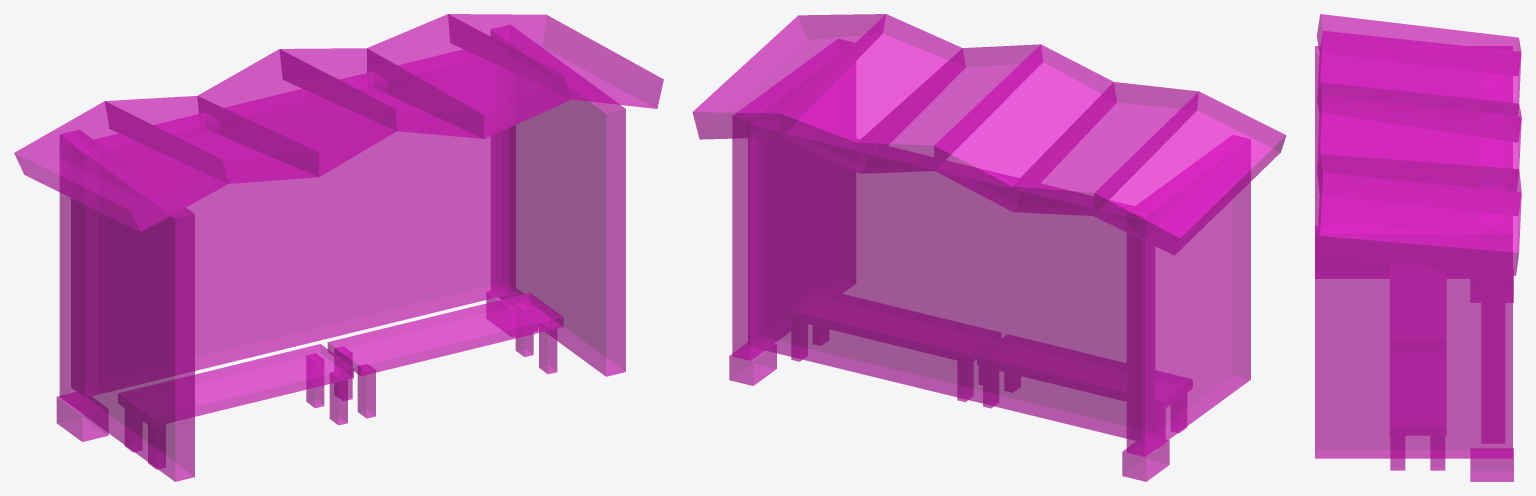
Rendered from SM_Prop_BusStop_01_Collision.fbx.
3 views of the same model, side by side, from view 1: azimuth 30°, elevation 25°; view 2: azimuth 150°, elevation 25°; view 3: azimuth 270°, elevation 25° (orthographic). The views are drawn at different scales.
Visible parts, largest first — view 1: SM_Prop_BusStop_01_Collision; view 2: SM_Prop_BusStop_01_Collision; view 3: SM_Prop_BusStop_01_Collision.
Boxes of the visible parts, x1,y1,x2,y2 form: SM_Prop_BusStop_01_Collision: (14, 14, 663, 481); SM_Prop_BusStop_01_Collision: (692, 14, 1286, 481); SM_Prop_BusStop_01_Collision: (1315, 14, 1521, 481).
Bounding box in the file's own units: 497 × 303 × 195.
